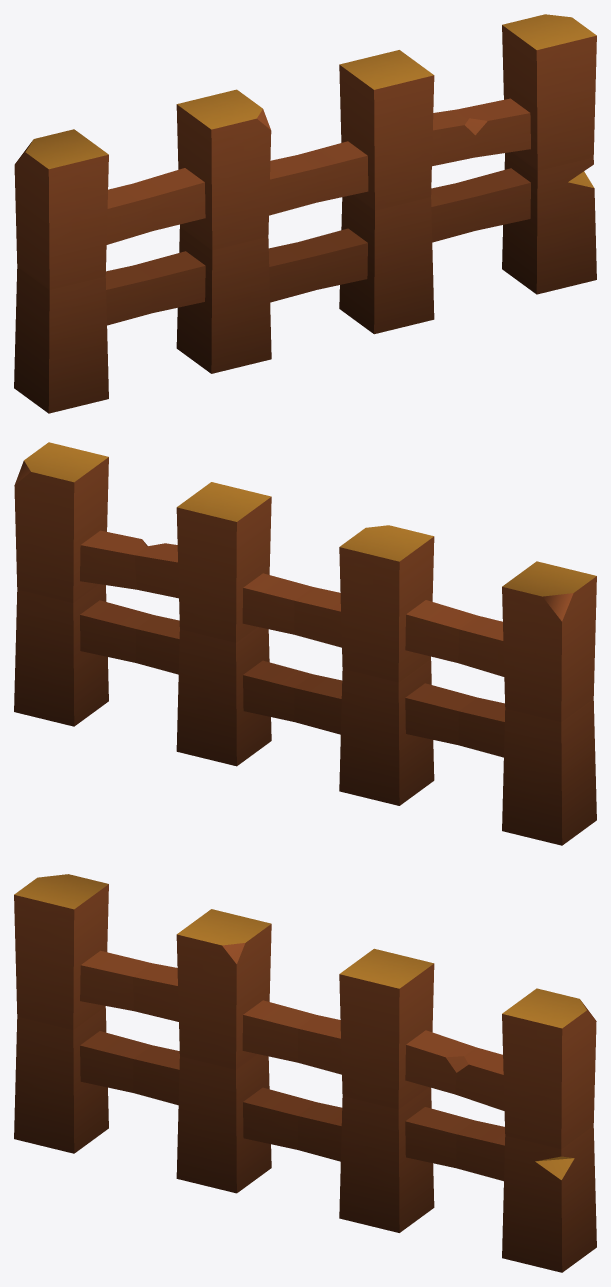
The model's file is fence_003.fbx.
3 renders of one model, top to bottom at view 1: azimuth 30°, elevation 25°; view 2: azimuth 150°, elevation 25°; view 3: azimuth 330°, elevation 25°, orthographic.
Visible parts, largest first — view 1: fence.003; view 2: fence.003; view 3: fence.003.
Part boxes in pixels (x1,y1,x2,y2): fence.003: [14, 14, 596, 413]; fence.003: [14, 442, 596, 845]; fence.003: [14, 874, 596, 1272].
Size of the model in its own units: 442 by 188 by 48.55.
